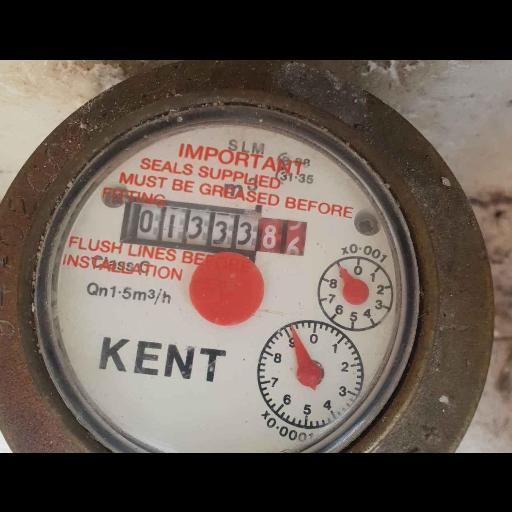0: (136, 202, 164, 241)
1: (161, 205, 187, 243)
3: (186, 209, 212, 246), (211, 211, 236, 248), (235, 214, 259, 251)
6: (285, 219, 308, 255)
8: (260, 216, 284, 252)
border_water_meter_number: (121, 194, 310, 264)
